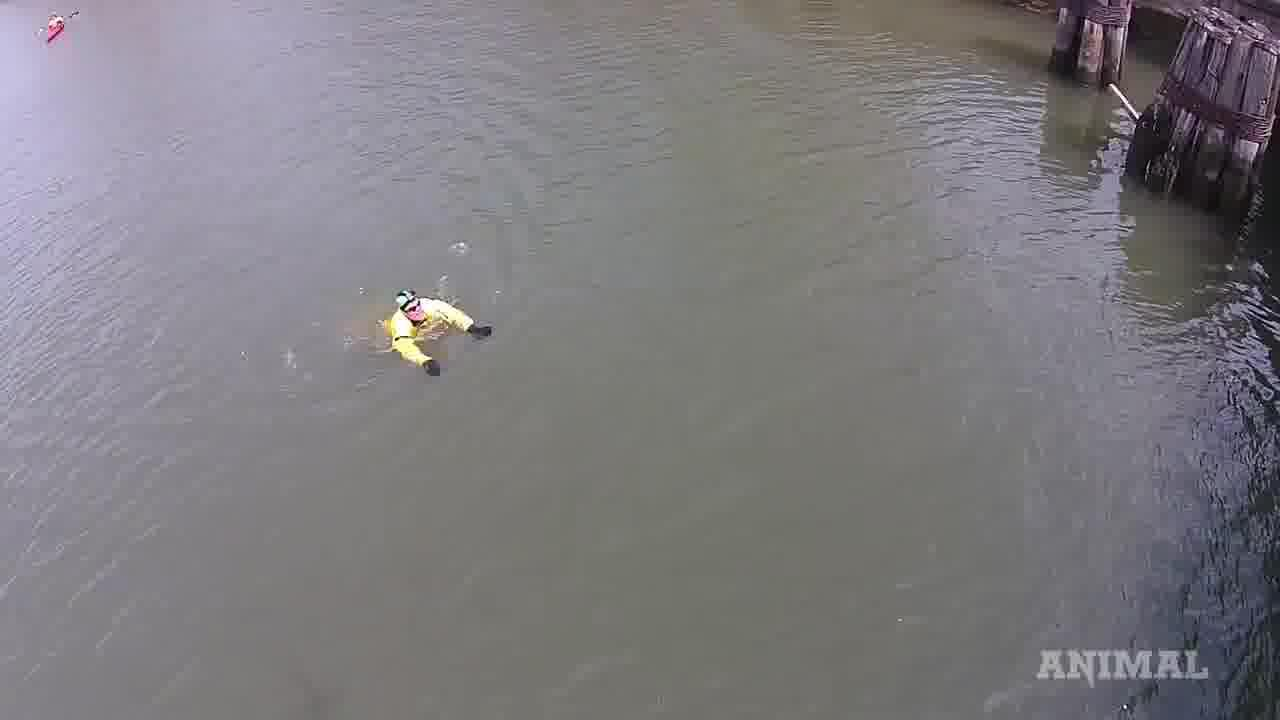swimmer: (356, 271, 510, 390)
